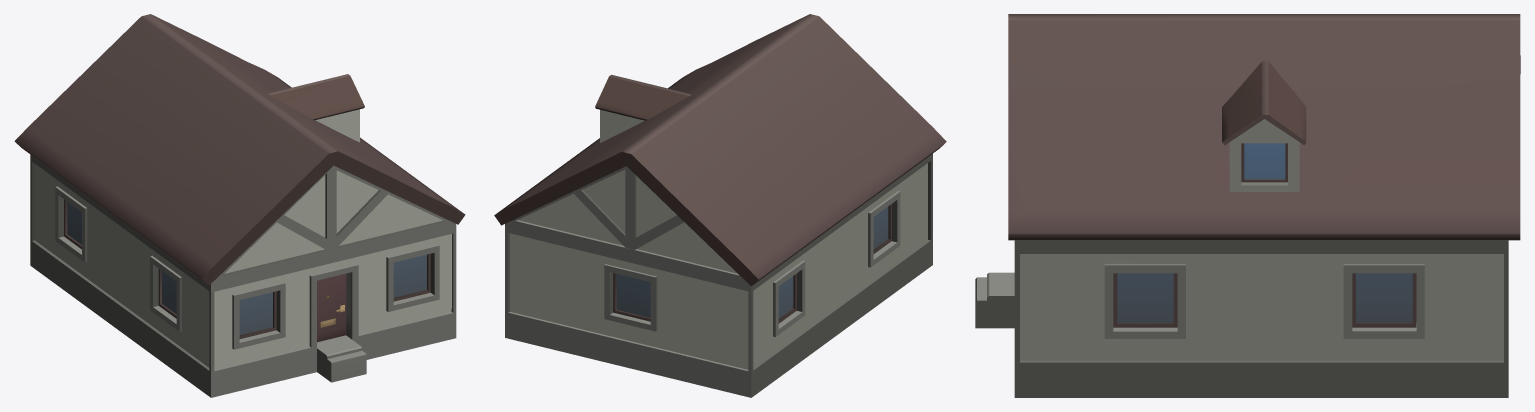
Rendered from buildings-residential-familyhome_v3.glb.
The picture shows the model from 3 angles, left to right: view 1: azimuth 30°, elevation 25°; view 2: azimuth 150°, elevation 25°; view 3: azimuth 270°, elevation 25°; orthographic projection. The views are drawn at different scales.
Parts seen in each view (by area): view 1: FamilyHome_v3_base, FamilyHome_v3_windowRefl; view 2: FamilyHome_v3_base, FamilyHome_v3_windowRefl; view 3: FamilyHome_v3_base, FamilyHome_v3_windowRefl.
Part boxes in pixels (<box>): FamilyHome_v3_base: <box>14,14,465,397</box>; FamilyHome_v3_windowRefl: <box>67,202,426,335</box>; FamilyHome_v3_base: <box>494,14,946,397</box>; FamilyHome_v3_windowRefl: <box>616,206,888,318</box>; FamilyHome_v3_base: <box>975,14,1520,397</box>; FamilyHome_v3_windowRefl: <box>1117,143,1412,322</box>.
Size of the model in its own units: 9.62 by 7.6 by 12.62.
